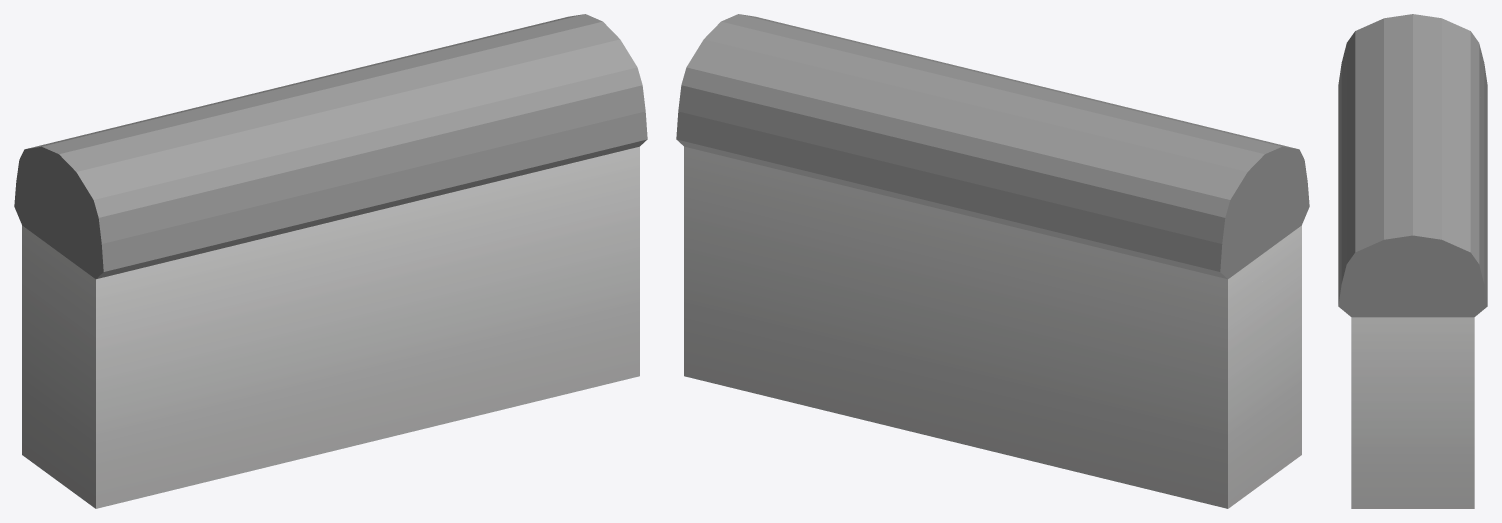
Rendered from wall_broken_full.fbx.
3 renders of one model, left to right at view 1: azimuth 30°, elevation 25°; view 2: azimuth 150°, elevation 25°; view 3: azimuth 270°, elevation 25°, orthographic. The views are drawn at different scales.
Parts seen in each view (by area): view 1: wall_broken_full, full_wall_for_part_030, full_wall_for_part_005, full_wall_for_part_027, full_wall_for_part_002, full_wall_for_part_003, full_wall_for_part_029, full_wall_for_part_028, full_wall_for_part_014, full_wall_for_part_013, full_wall_for_part_024, full_wall_for_part_012 (+15 smaller); view 2: wall_broken_full, full_wall_for_part_037, full_wall_for_part_025, full_wall_for_part_008, full_wall_for_part_036, full_wall_for_part_023, full_wall_for_part_009, full_wall_for_part_010, full_wall_for_part_021, full_wall_for_part_032, full_wall_for_part_006, full_wall_for_part_001 (+16 smaller); view 3: wall_broken_full, full_wall_for_part_030, full_wall_for_part_011, full_wall_for_part_037, full_wall_for_part_036, full_wall_for_part_029, full_wall_for_part_038, full_wall_for_part_028, full_wall_for_part_001, full_wall_for_part_031, full_wall_for_part_033, full_wall_for_part_032.
Boxes of the visible parts, left/top/right/bottom form: wall_broken_full: left=14, top=14, right=647, bottom=508; full_wall_for_part_030: left=446, top=14, right=645, bottom=255; full_wall_for_part_005: left=412, top=288, right=567, bottom=430; full_wall_for_part_027: left=522, top=117, right=647, bottom=315; full_wall_for_part_002: left=54, top=390, right=222, bottom=508; full_wall_for_part_003: left=220, top=355, right=414, bottom=478; full_wall_for_part_029: left=284, top=80, right=415, bottom=257; full_wall_for_part_028: left=67, top=136, right=242, bottom=295; full_wall_for_part_014: left=171, top=292, right=271, bottom=421; full_wall_for_part_013: left=63, top=280, right=174, bottom=399; full_wall_for_part_024: left=417, top=249, right=522, bottom=339; full_wall_for_part_012: left=156, top=174, right=249, bottom=324; wall_broken_full: left=676, top=14, right=1301, bottom=508; full_wall_for_part_037: left=955, top=95, right=1149, bottom=273; full_wall_for_part_025: left=764, top=179, right=901, bottom=336; full_wall_for_part_008: left=1040, top=326, right=1165, bottom=491; full_wall_for_part_036: left=1141, top=122, right=1277, bottom=228; full_wall_for_part_023: left=996, top=221, right=1123, bottom=336; full_wall_for_part_009: left=994, top=345, right=1138, bottom=484; full_wall_for_part_010: left=835, top=329, right=997, bottom=451; full_wall_for_part_021: left=1183, top=315, right=1290, bottom=406; full_wall_for_part_032: left=1157, top=197, right=1235, bottom=303; full_wall_for_part_006: left=1157, top=395, right=1261, bottom=507; full_wall_for_part_001: left=865, top=56, right=985, bottom=168; wall_broken_full: left=1338, top=14, right=1487, bottom=508; full_wall_for_part_030: left=1338, top=169, right=1472, bottom=297; full_wall_for_part_011: left=1351, top=423, right=1474, bottom=508; full_wall_for_part_037: left=1351, top=66, right=1487, bottom=191; full_wall_for_part_036: left=1390, top=14, right=1480, bottom=65; full_wall_for_part_029: left=1338, top=105, right=1440, bottom=209; full_wall_for_part_038: left=1389, top=164, right=1487, bottom=271; full_wall_for_part_028: left=1338, top=17, right=1395, bottom=117; full_wall_for_part_001: left=1386, top=124, right=1484, bottom=205; full_wall_for_part_031: left=1346, top=136, right=1418, bottom=180; full_wall_for_part_033: left=1391, top=61, right=1485, bottom=117; full_wall_for_part_032: left=1477, top=49, right=1487, bottom=106.
Size of the model in its own units: 1066 by 614 by 304.
Materials: 1 (1 with a texture image).
